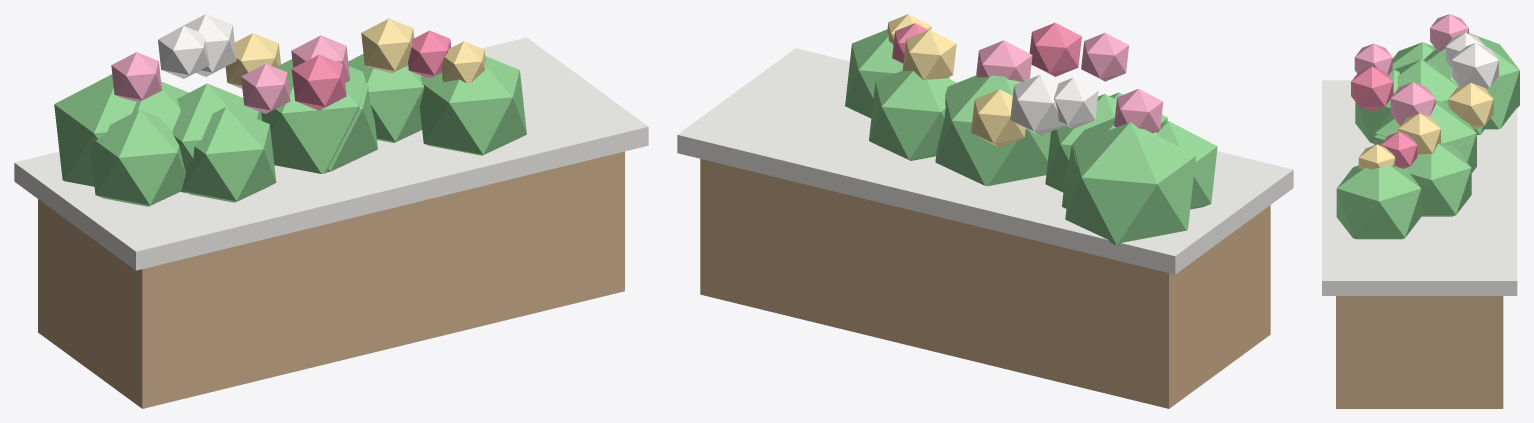
The model's file is FlowerPlanter.fbx.
3 renders of one model, left to right at view 1: azimuth 30°, elevation 25°; view 2: azimuth 150°, elevation 25°; view 3: azimuth 270°, elevation 25°, orthographic. The views are drawn at different scales.
Visible parts, largest first — view 1: FlowerPlanter; view 2: FlowerPlanter; view 3: FlowerPlanter.
Boxes of the visible parts, bbox=[...] form: FlowerPlanter: bbox=[14, 14, 648, 408]; FlowerPlanter: bbox=[677, 14, 1293, 408]; FlowerPlanter: bbox=[1322, 14, 1519, 408].
Bounding box in the file's own units: 1.7 × 0.9339 × 0.7089.
